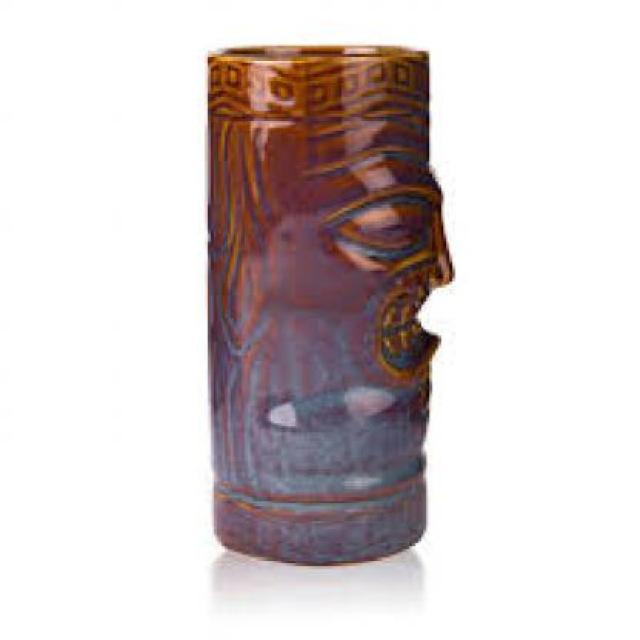kaca: (202, 49, 449, 562)
